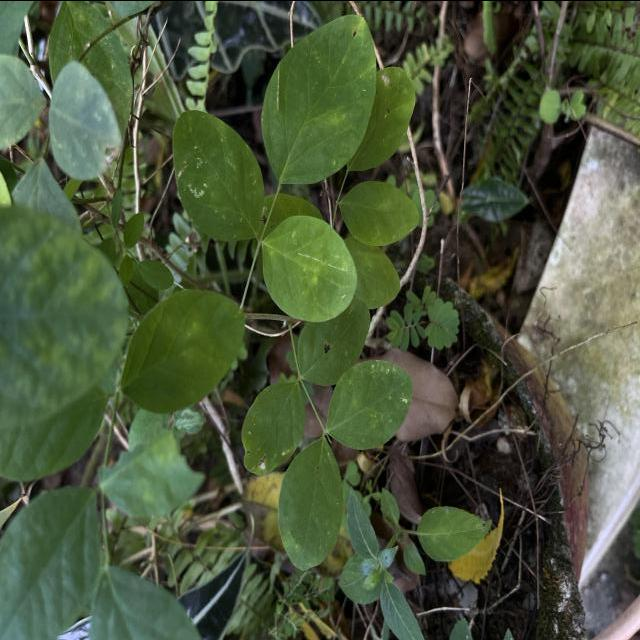Clitoria ternatea: (260, 13, 377, 184), (172, 108, 266, 242), (260, 213, 358, 323), (278, 435, 344, 571), (326, 358, 414, 450), (241, 379, 307, 476)
